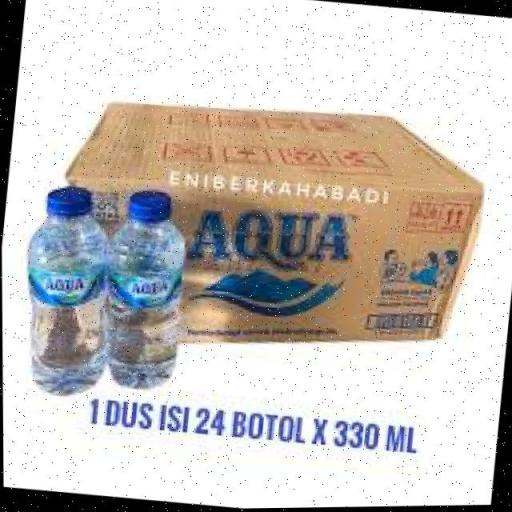plastic: (6, 178, 126, 408), (100, 184, 194, 395)
